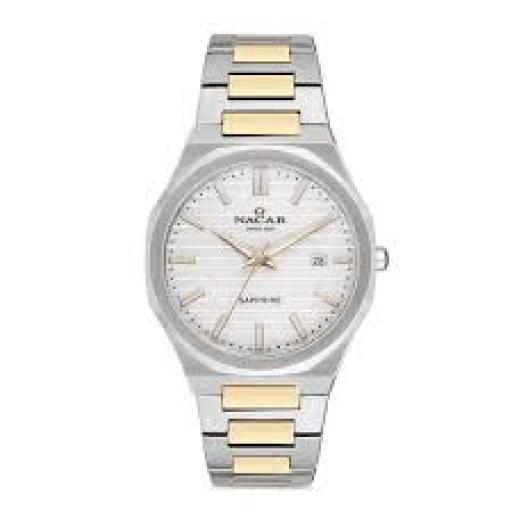KolSaati: (104, 7, 418, 512)
